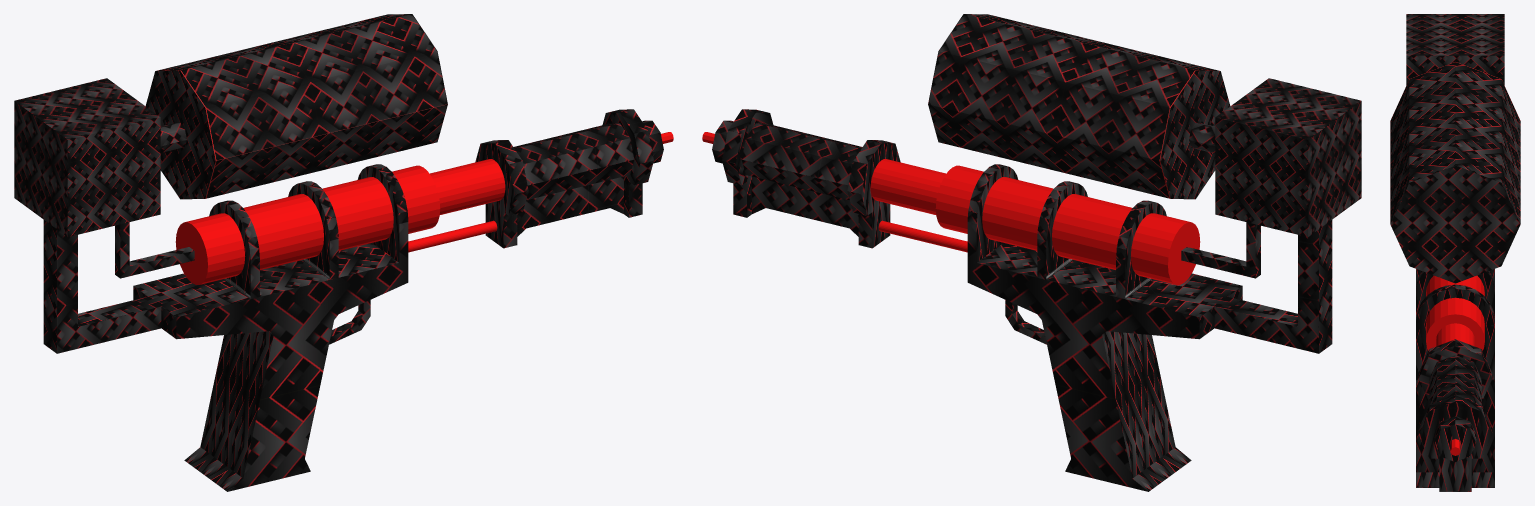
File: Watergun_steelred.FBX
The picture shows the model from 3 angles, left to right: view 1: azimuth 30°, elevation 25°; view 2: azimuth 150°, elevation 25°; view 3: azimuth 270°, elevation 25°; orthographic projection. The views are drawn at different scales.
Visible parts, largest first — view 1: Depósito, Estructura, Empuñadura, Cubo depósito, Cilindro; view 2: Depósito, Estructura, Empuñadura, Cubo depósito, Cilindro; view 3: Depósito, Estructura, Cubo depósito, Cilindro, Empuñadura.
Boxes of the visible parts, <box> form: Depósito: <box>145,14,447,199</box>; Estructura: <box>43,109,663,353</box>; Empuñadura: <box>176,222,408,491</box>; Cubo depósito: <box>14,78,160,236</box>; Cilindro: <box>175,132,673,284</box>; Depósito: <box>928,14,1230,199</box>; Estructura: <box>712,109,1332,353</box>; Empuñadura: <box>967,222,1241,491</box>; Cubo depósito: <box>1215,78,1361,236</box>; Cilindro: <box>702,132,1200,284</box>; Depósito: <box>1390,62,1520,283</box>; Estructura: <box>1416,269,1494,491</box>; Cubo depósito: <box>1406,14,1504,85</box>; Cilindro: <box>1426,275,1484,455</box>; Empuñadura: <box>1416,380,1494,487</box>.
Size of the model in its own units: 13.57 by 8.47 by 2.65.
Materials: 5 (4 with a texture image).
